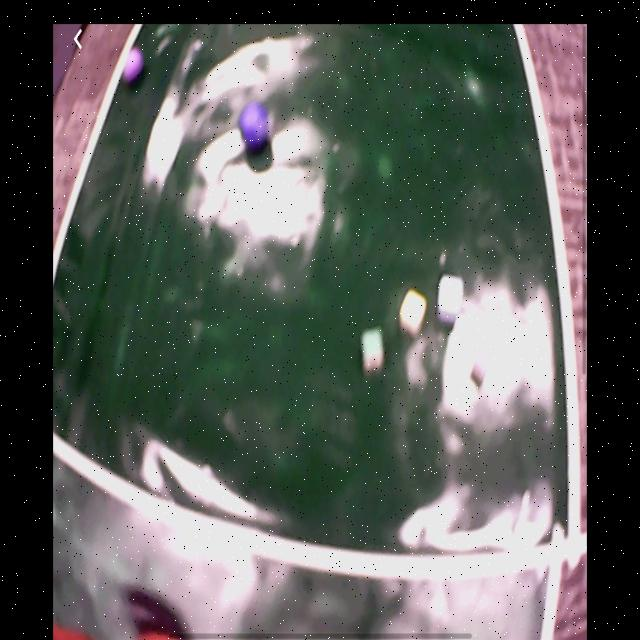ball: (239, 103, 268, 151), (122, 47, 145, 84)
